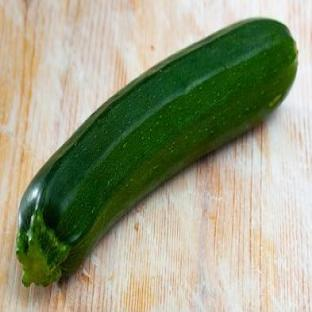Zucchini: (17, 20, 296, 285)
